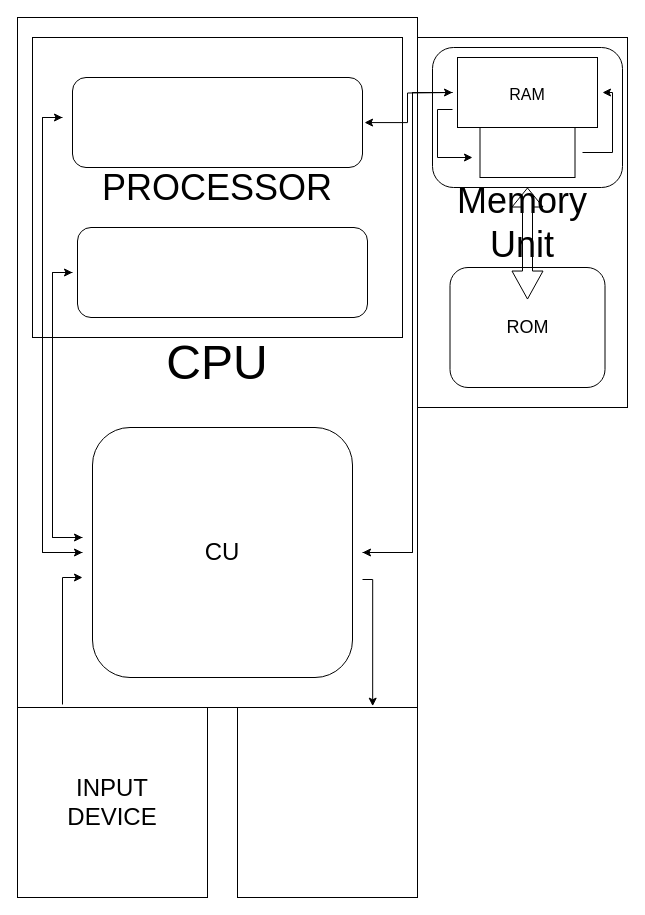
This 645x915 diagram has some shape labels left out. Each missing label, with the centre of its shape:
ALU: point (217, 122)
Cache: point (527, 152)
OUTPUT DEVICE: point (327, 802)
Register: point (222, 272)
